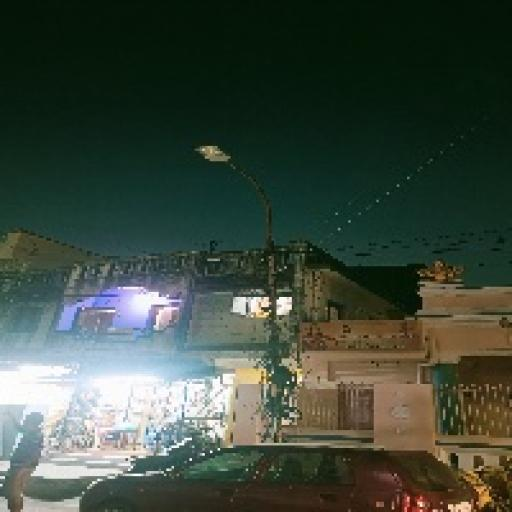Not Working: (187, 136, 240, 176)
